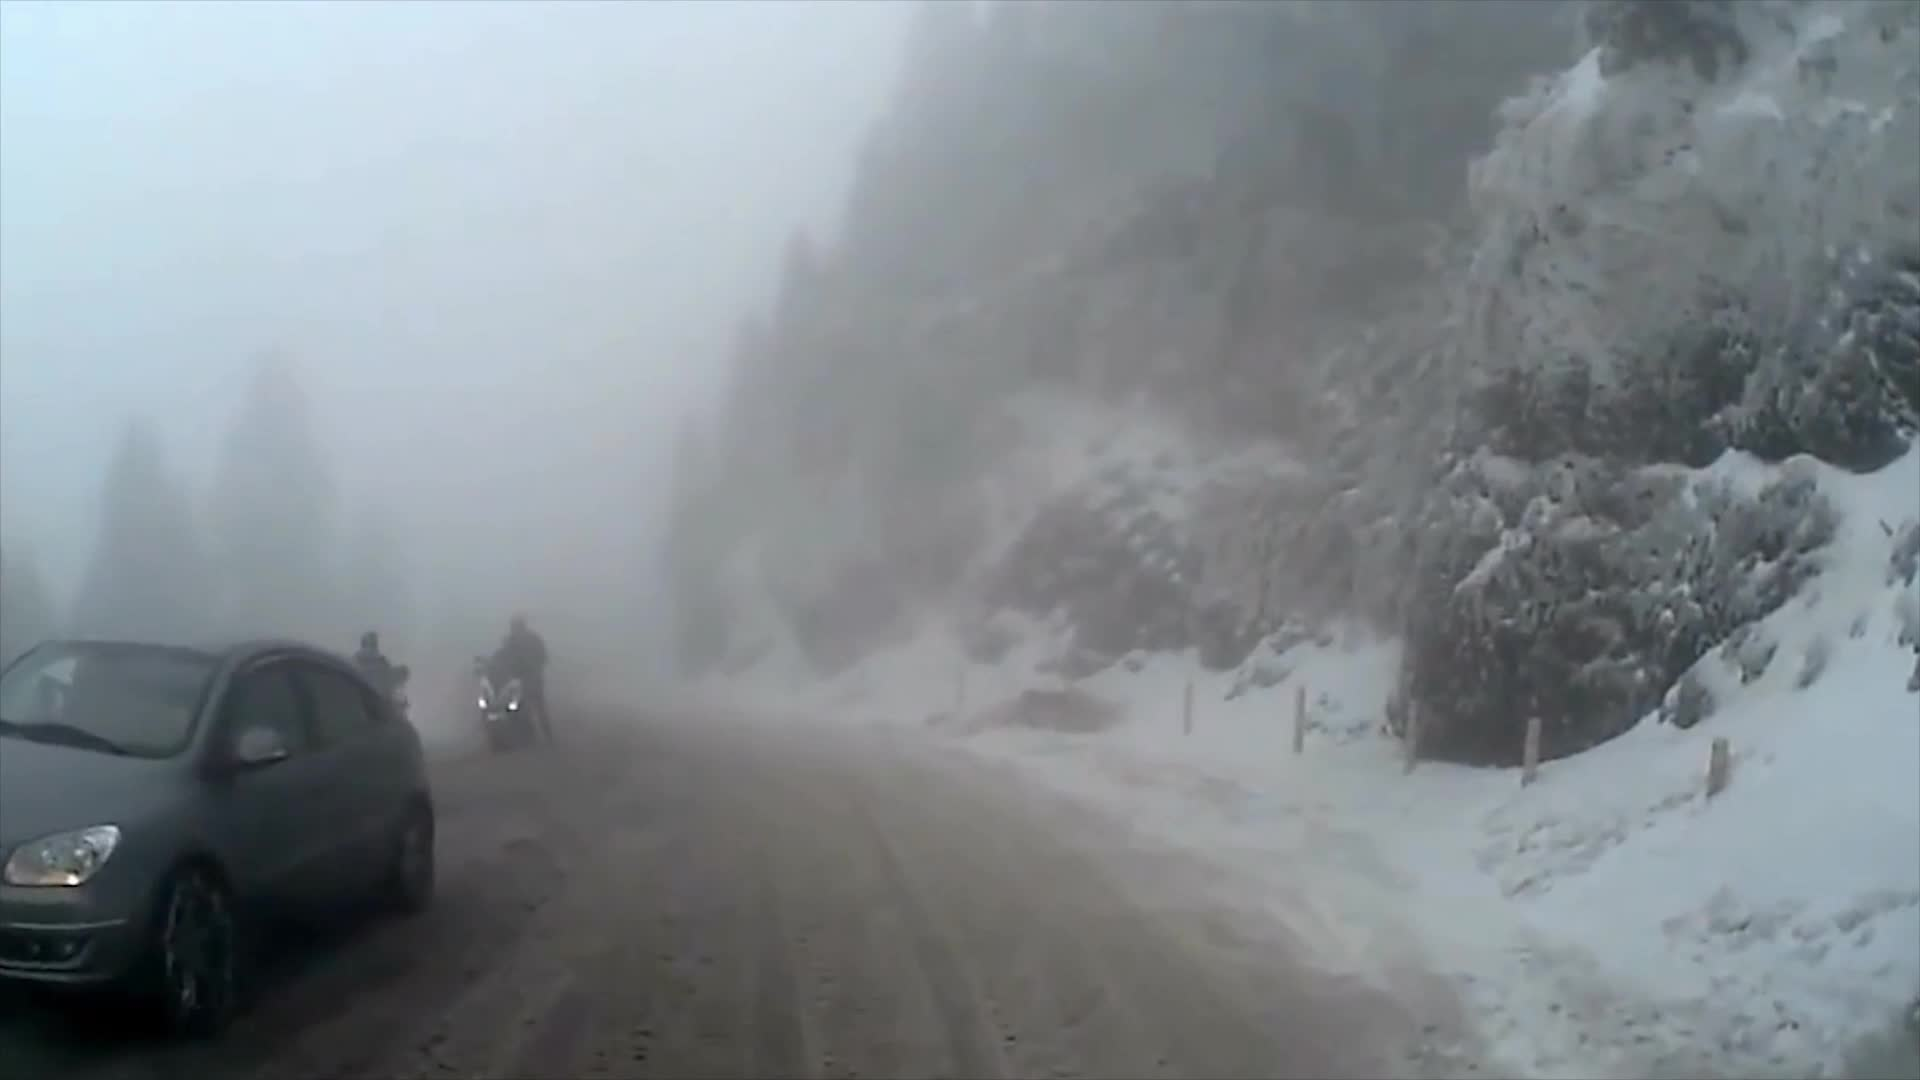pedestrian: (341, 631, 409, 803), (481, 607, 554, 740)
vehicle: (0, 630, 434, 1036)
